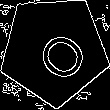O_NW: (22, 18, 86, 82)
